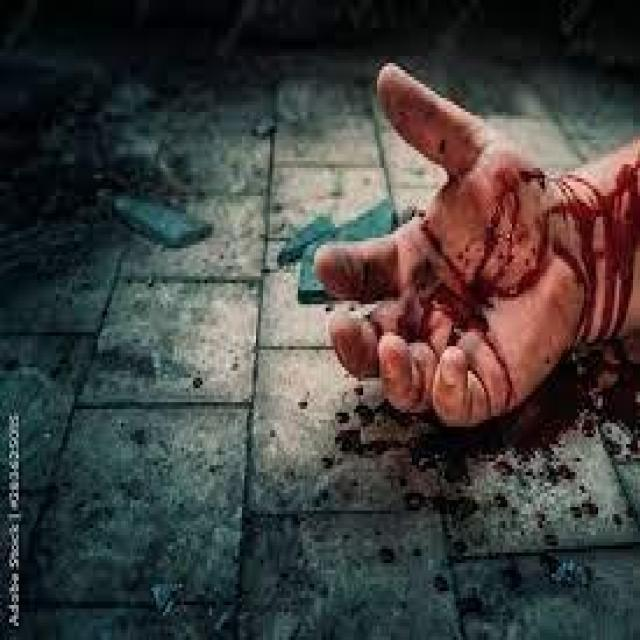flood: (306, 77, 640, 444)
